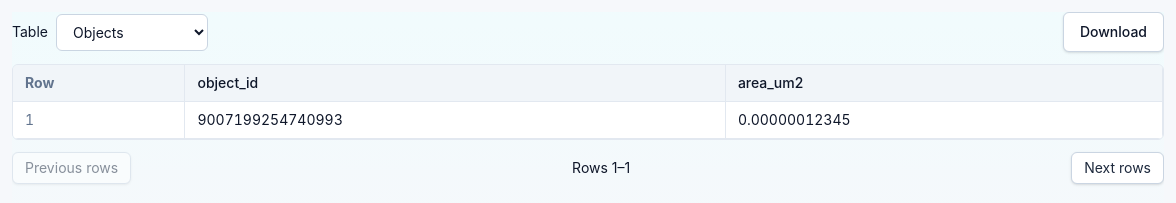
Test: keeps spreadsheet values intact, pages rows, and starts each table at its first row
Expected: the cell "9007199254740993" is shown, [186,102,726,139]
Expected: the cell "0.00000012345" is shown, [726,102,1163,139]
Step 1. Click the button "Next rows" → (1118,168), box [1071,152,1164,184]
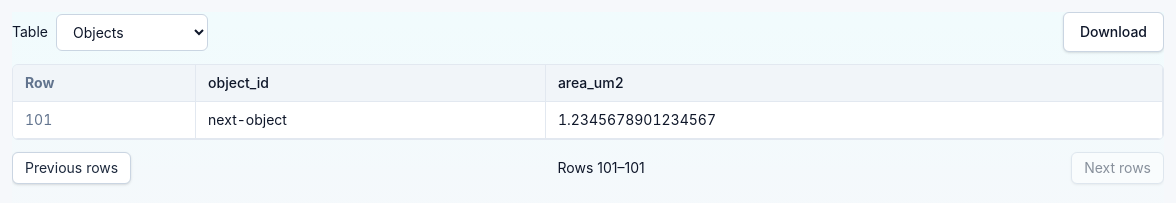
Expected: the cell "next-object" is shown, [196,102,546,139]
Expected: the text "Rows 101–101" is shown, [558,158,645,178]
Expected: the button "Next rows" is disabled, [1071,152,1164,184]
Step 2. Select "Composition" in the dropdown labelled "Table" → (132,32), box [56,14,208,50]
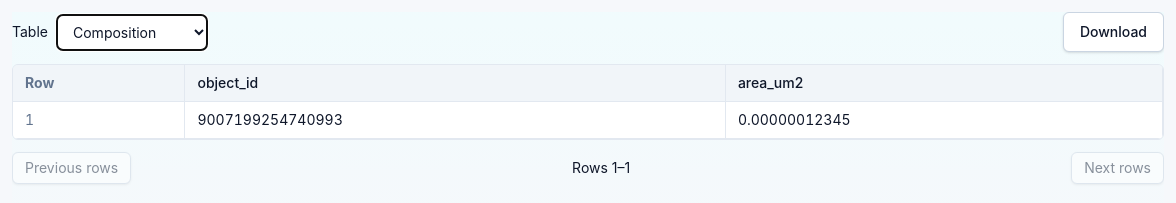
Expected: the table named "Composition spreadsheet" is shown, [13,65,1163,139]
Expected: the button "Previous rows" is disabled, [12,152,131,184]
